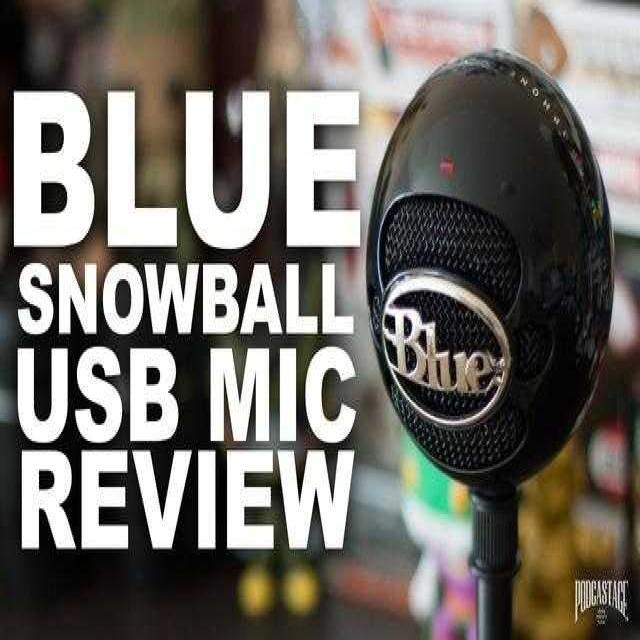microphone: (365, 47, 616, 640)
